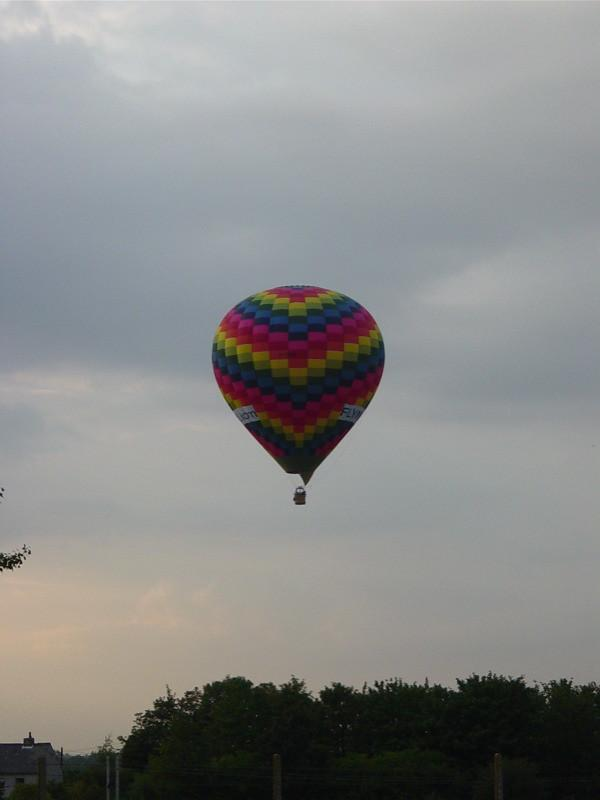balloon: (211, 283, 386, 506)
